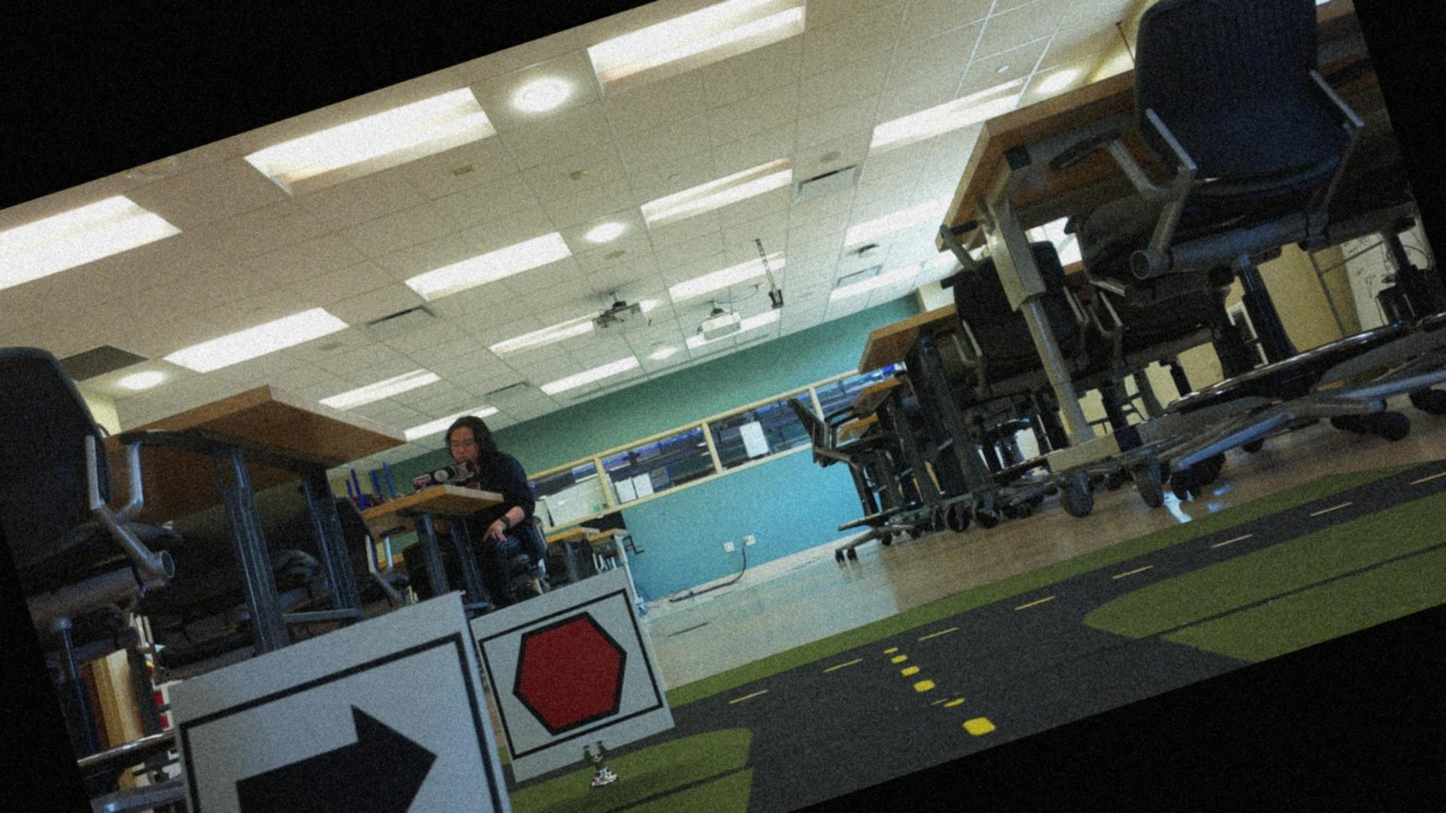stop: (480, 592, 660, 754)
turnright: (176, 638, 524, 812)
yellowline: (889, 633, 995, 757)
